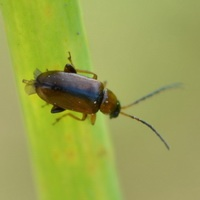insect: (22, 52, 181, 149)
